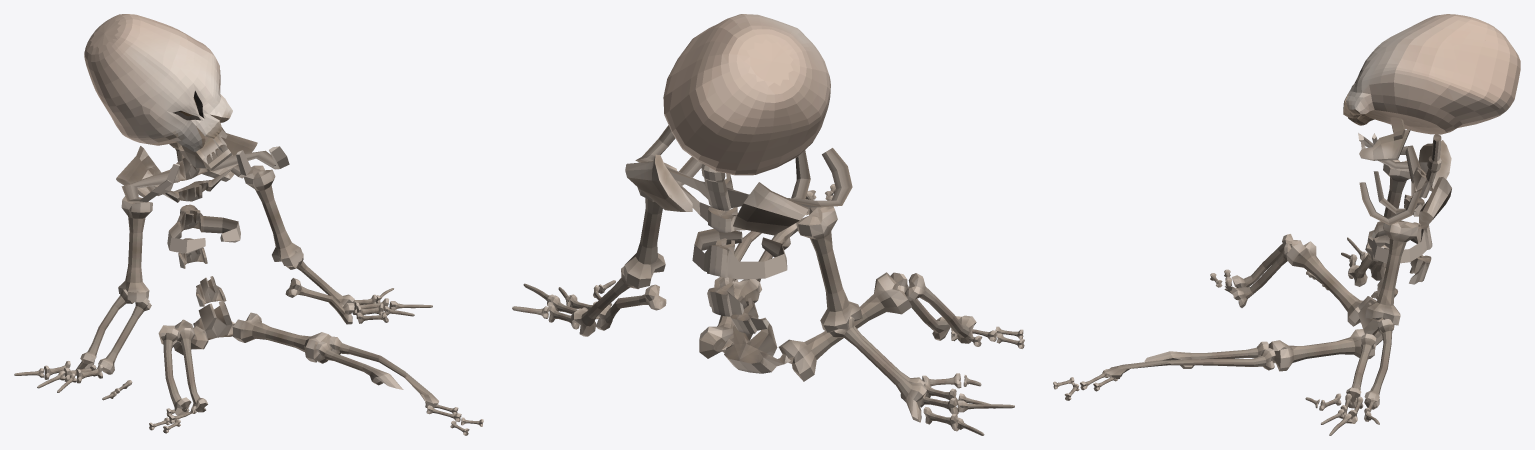
File: machoire.fbx
3 renders of one model, left to right at view 1: azimuth 30°, elevation 25°; view 2: azimuth 150°, elevation 25°; view 3: azimuth 270°, elevation 25°, orthographic. The views are drawn at different scales.
Visible parts, largest first — view 1: skeleton.030, skeleton.002, skeleton.003; view 2: skeleton.030, skeleton.002; view 3: skeleton.030, skeleton.002, skeleton.003.
Boxes of the visible parts, box(x1,y1,x2,y2) form: skeleton.030: box(14, 127, 483, 435); skeleton.002: box(84, 14, 232, 152); skeleton.003: box(169, 134, 231, 170); skeleton.030: box(512, 125, 1024, 435); skeleton.002: box(663, 14, 830, 175); skeleton.030: box(1053, 133, 1451, 435); skeleton.002: box(1343, 14, 1520, 134); skeleton.003: box(1359, 117, 1410, 160).
Bounding box in the file's own units: 102 × 77.66 × 106.
